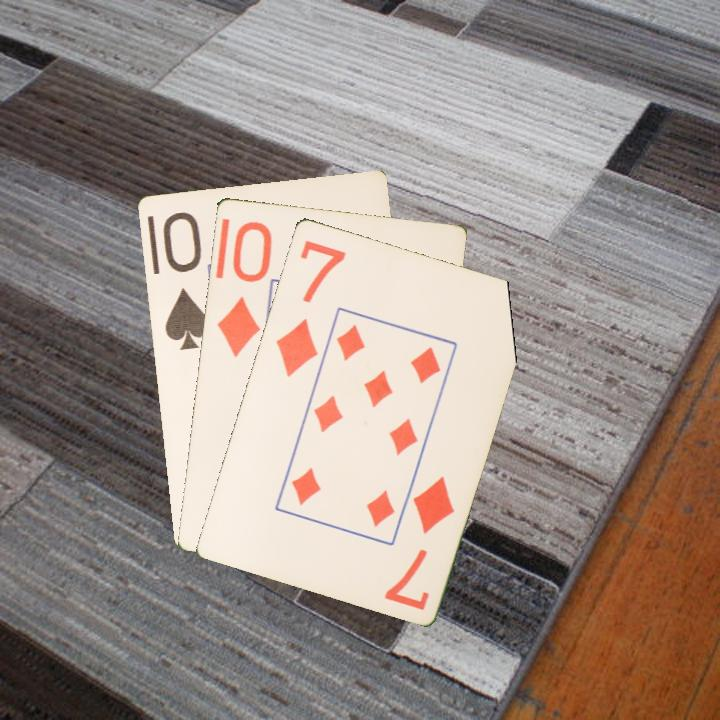10d: (212, 217, 275, 360)
10s: (159, 207, 211, 353)
7d: (271, 236, 348, 379), (380, 472, 457, 613)
